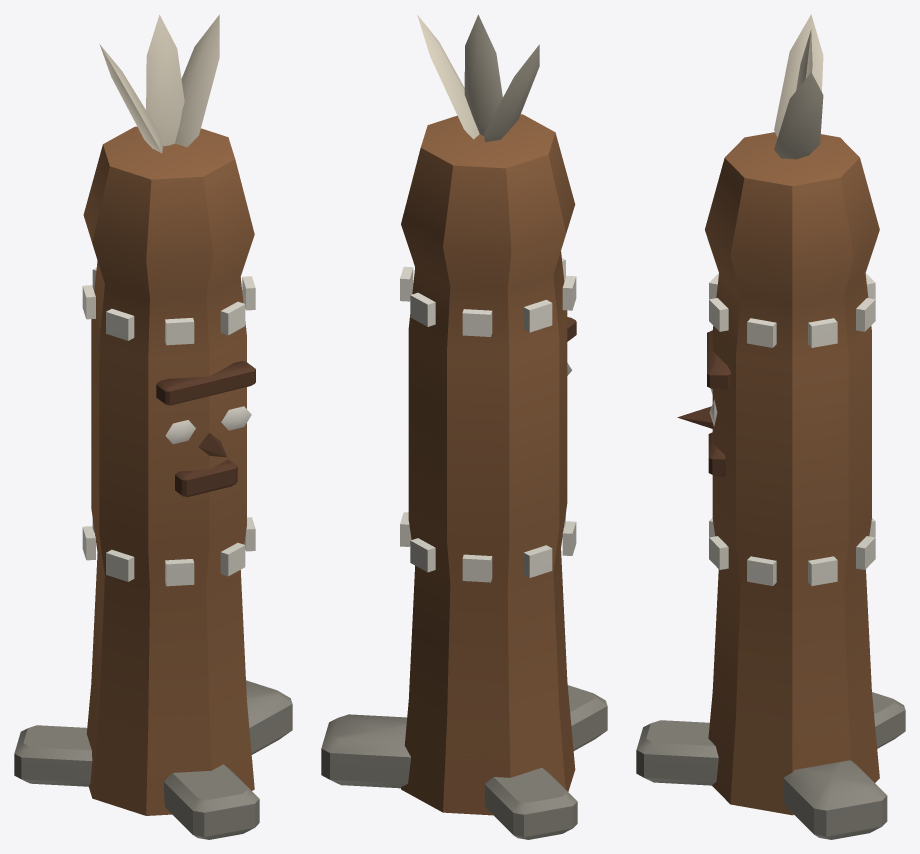
The model's file is totem.glb.
The picture shows the model from 3 angles, left to right: view 1: azimuth 30°, elevation 25°; view 2: azimuth 150°, elevation 25°; view 3: azimuth 270°, elevation 25°; orthographic projection. The views are drawn at different scales.
Visible parts, largest first — view 1: post, glow; view 2: post, glow; view 3: post, glow.
Boxes of the visible parts, box(x1,y1,x2,y2) form: post: box(14, 14, 292, 839); glow: box(82, 267, 255, 586); post: box(321, 14, 607, 839); glow: box(400, 258, 576, 582); post: box(636, 14, 905, 839); glow: box(709, 273, 875, 585).
Bounding box in the file's own units: 0.3698 × 1.04 × 0.3379.
